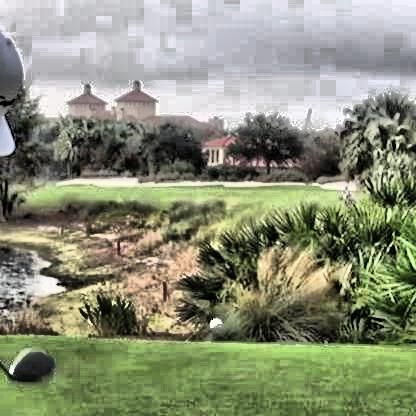golfball: (206, 315, 220, 331)
